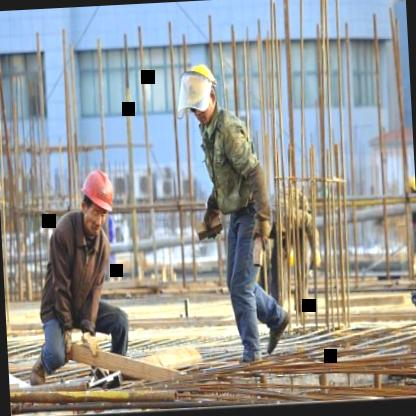helmet: (75, 165, 118, 241), (179, 57, 221, 114)
